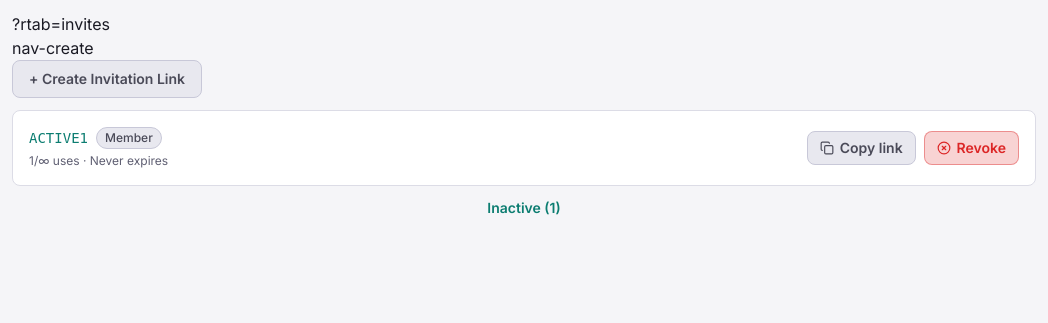
it: InvitesTab — rows › inactive (revoked/expired/exhausted) rows sit under a collapsed "Inactive" toggle
The width and height of the screenshot is (1048, 323).
Expected: the text "ACTIVE1" is shown, [29,128,88,148]
Expected: the text "REVOKED1" is not shown
Click the button "Inactive (1)" at (524, 208), box [12,198,1036,218]
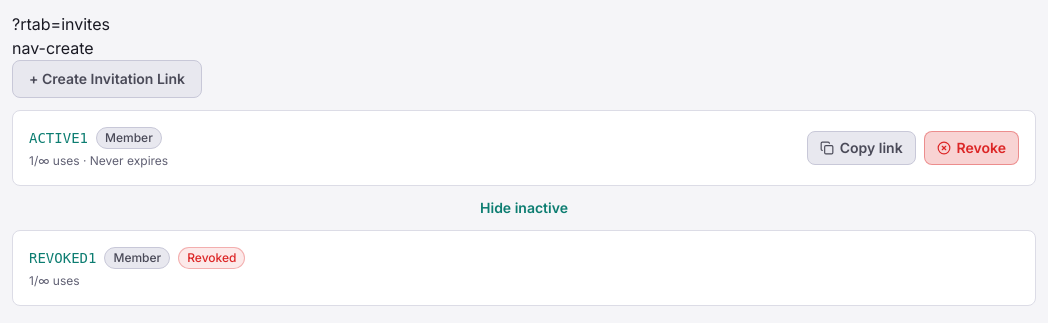
Expected: the text "REVOKED1" is shown, [29,248,96,268]
